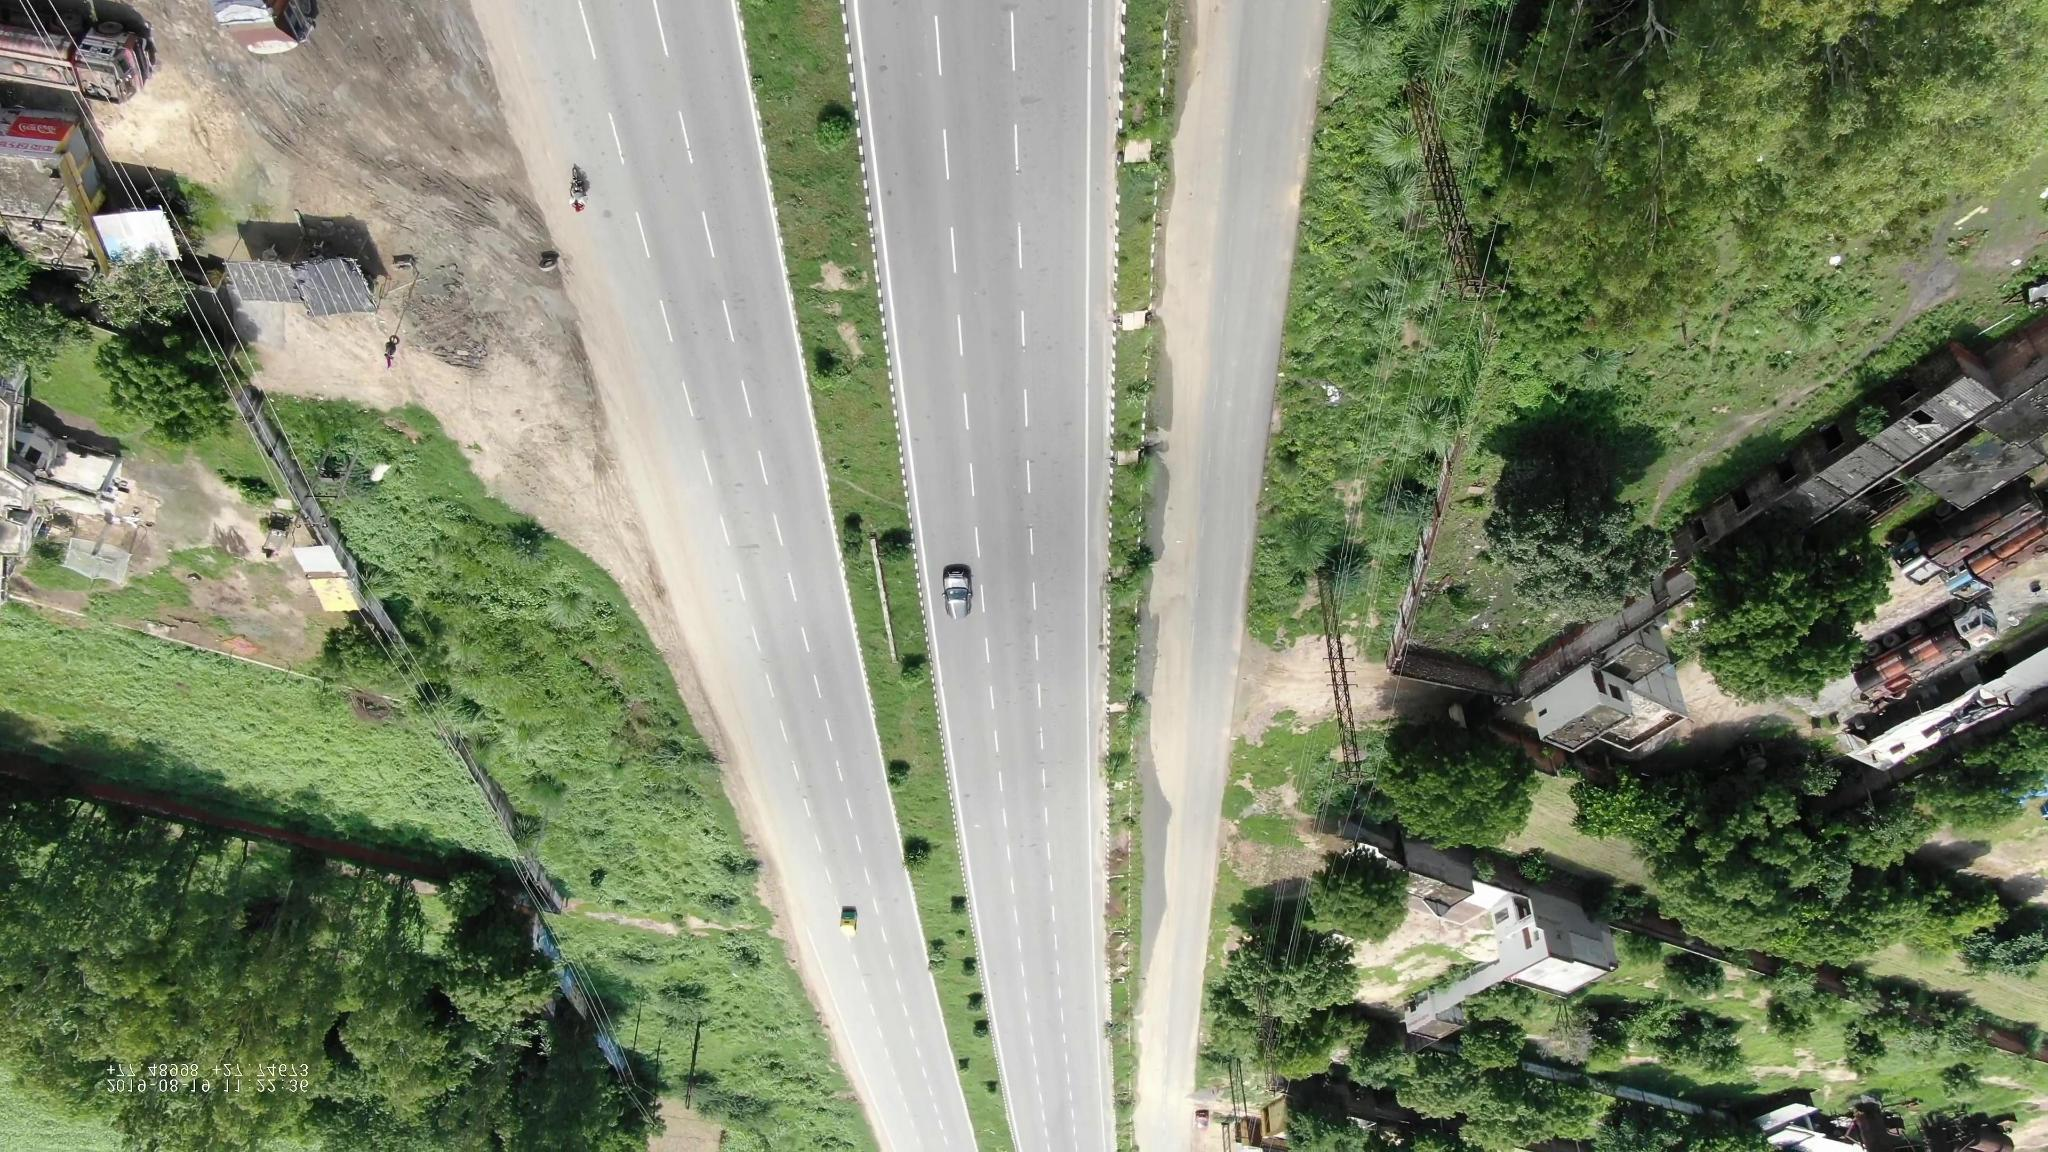Waterlogging: (1132, 783, 1180, 958)
